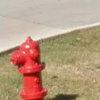Hydrant: (7, 30, 51, 100)
